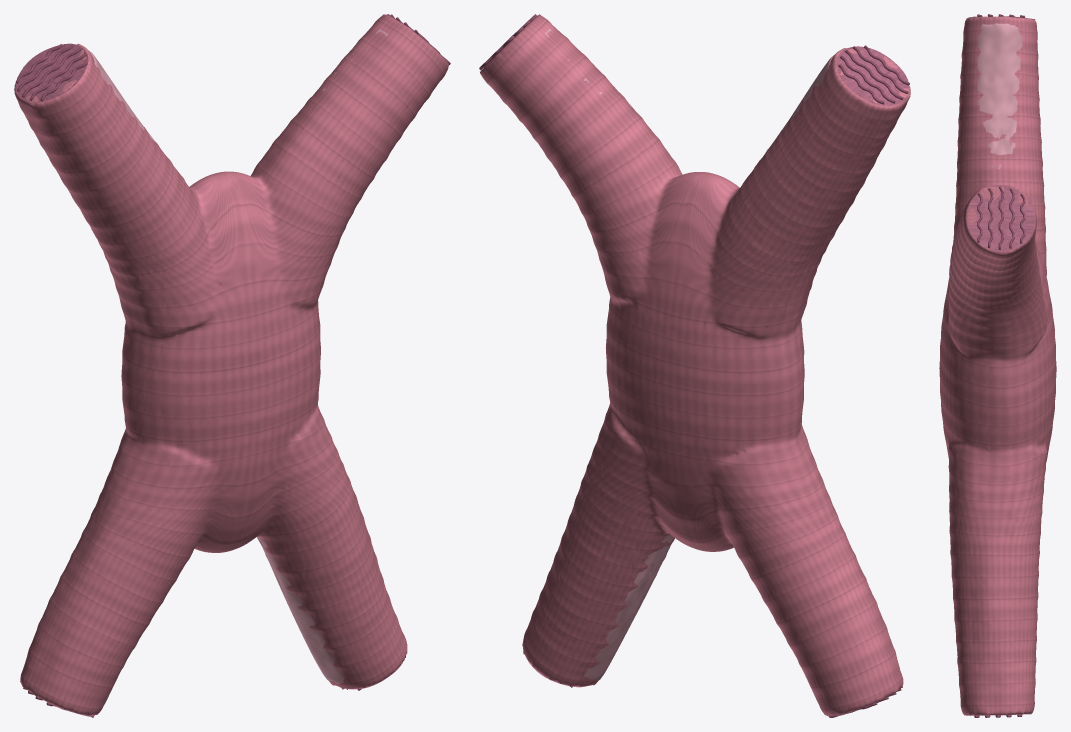
The model's file is cardiomiocito-complete.glb.
3 views of the same model, side by side, from view 1: azimuth 30°, elevation 25°; view 2: azimuth 150°, elevation 25°; view 3: azimuth 270°, elevation 25° (orthographic). The views are drawn at different scales.
Visible parts, largest first — view 1: sarcolemma_mesh, intercalated_discs_mesh, sarcoplasm_mesh; view 2: sarcolemma_mesh, intercalated_discs_mesh, sarcoplasm_mesh; view 3: sarcolemma_mesh, sarcoplasm_mesh, intercalated_discs_mesh.
Part boxes in pixels (x1=…): sarcolemma_mesh: x1=14, y1=14, x2=448, y2=715; intercalated_discs_mesh: x1=15, y1=14, x2=450, y2=717; sarcoplasm_mesh: x1=89, y1=29, x2=388, y2=704; sarcolemma_mesh: x1=480, y1=14, x2=910, y2=715; intercalated_discs_mesh: x1=479, y1=14, x2=909, y2=717; sarcoplasm_mesh: x1=545, y1=28, x2=834, y2=704; sarcolemma_mesh: x1=939, y1=16, x2=1056, y2=715; sarcoplasm_mesh: x1=977, y1=23, x2=1022, y2=168; intercalated_discs_mesh: x1=964, y1=14, x2=1035, y2=717.
Size of the model in its own units: 2.88 by 4.6 by 0.8189.
Materials: 9 (9 with a texture image).
